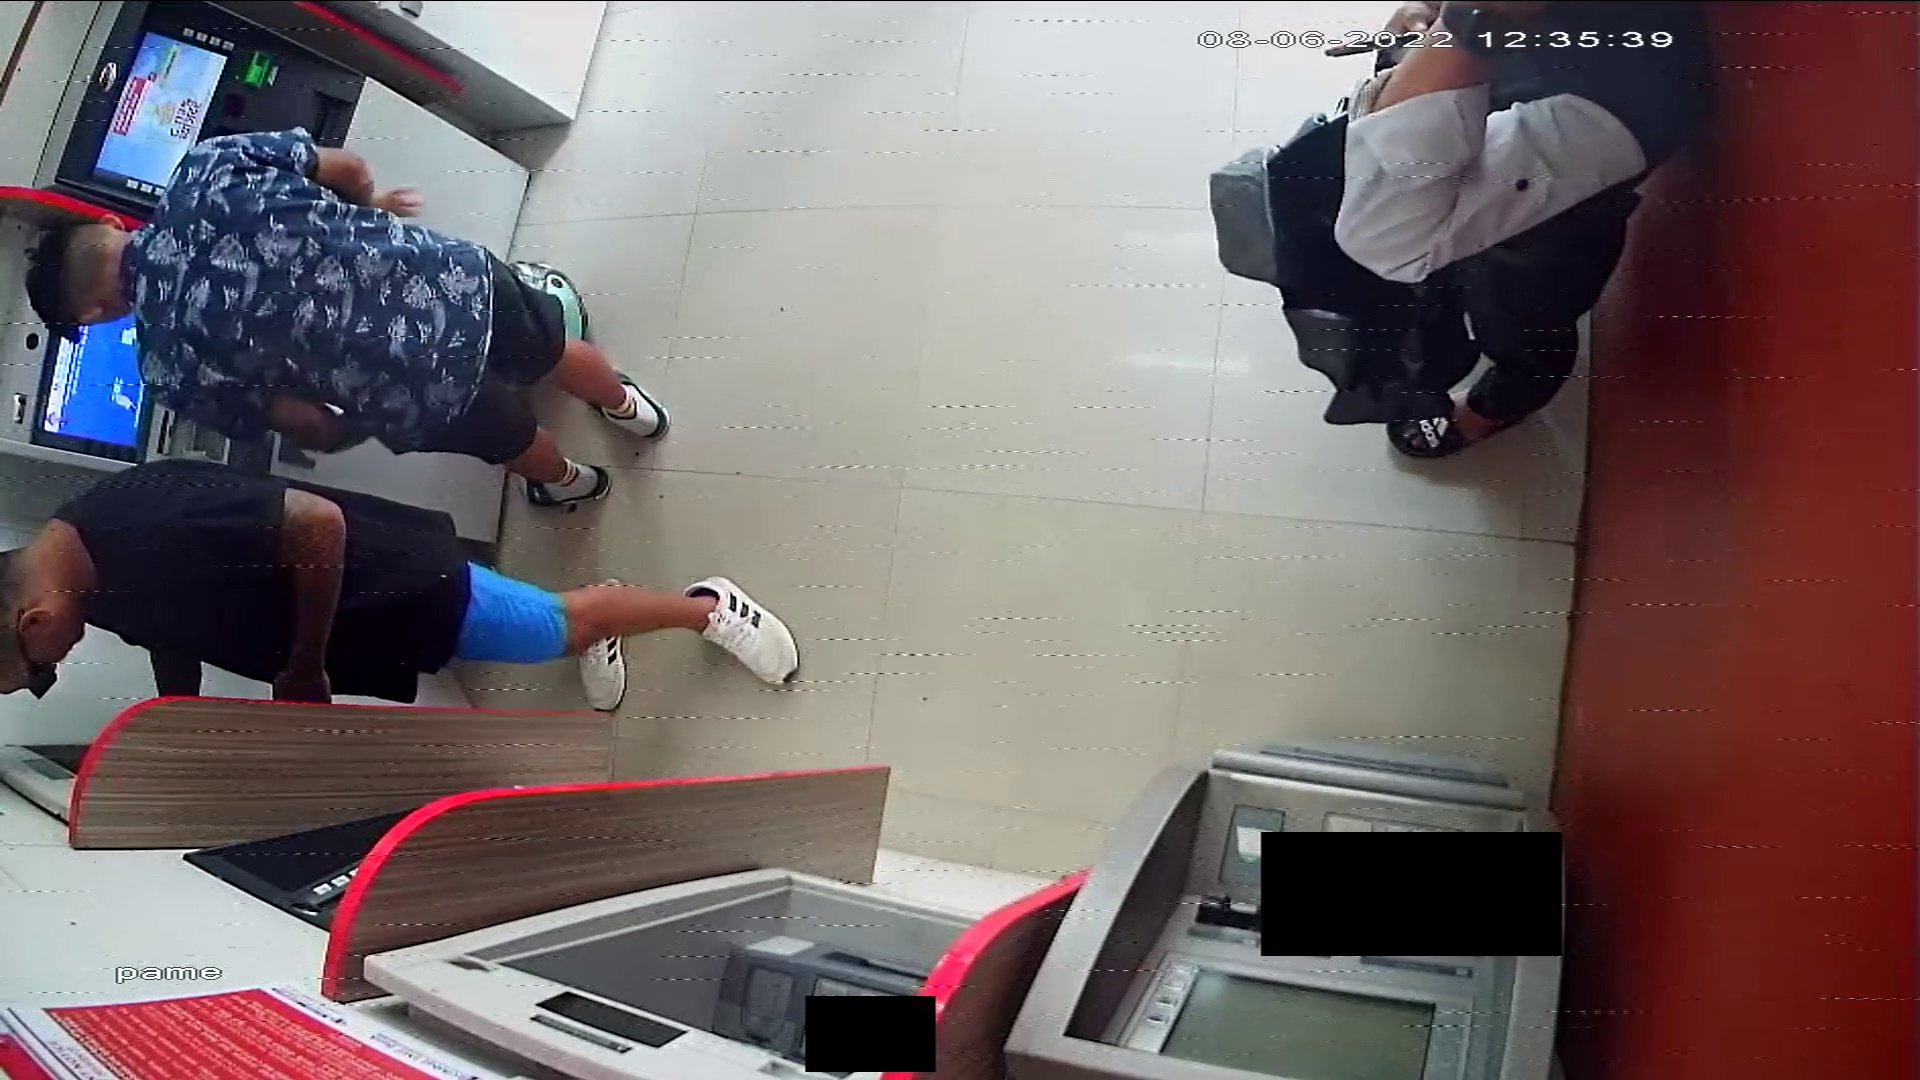person: (23, 130, 675, 506), (1, 460, 797, 712), (1333, 1, 1701, 462)
